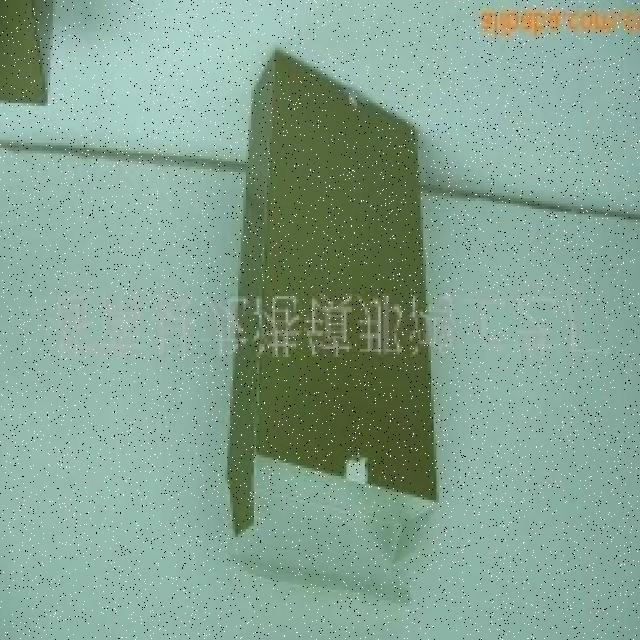box: (184, 50, 452, 568)
